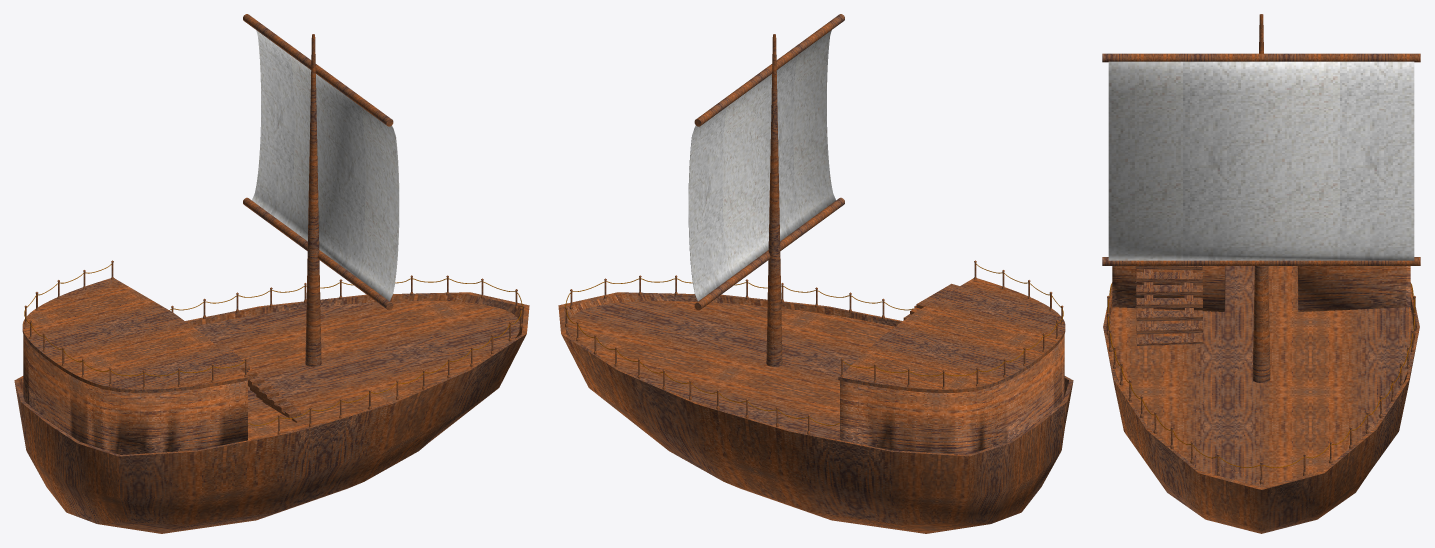
File: ship6.glb
3 views of the same model, side by side, from view 1: azimuth 30°, elevation 25°; view 2: azimuth 150°, elevation 25°; view 3: azimuth 270°, elevation 25° (orthographic). The views are drawn at different scales.
Visible parts, largest first — view 1: boat, top, Plane, toptop, cabinwall, middlepole, Cylinder, Cylinder.001, stairs, ropes; view 2: boat, top, Plane, toptop, cabinwall, middlepole, Cylinder, Cylinder.001, ropes; view 3: Plane, top, boat, cabinwall, stairs, Cylinder, middlepole, Cylinder.001, Cube.001, ropes.
Part boxes in pixels (box(x1,y1,x2,y2)): boat: box(14, 292, 529, 533); top: box(193, 300, 519, 440); Plane: box(252, 30, 399, 301); toptop: box(22, 278, 249, 392); cabinwall: box(23, 335, 247, 454); middlepole: box(305, 34, 321, 366); Cylinder: box(243, 14, 393, 126); Cylinder.001: box(243, 197, 393, 310); stairs: box(216, 343, 308, 422); ropes: box(24, 263, 522, 425); boat: box(558, 292, 1073, 533); top: box(567, 301, 894, 440); Plane: box(688, 30, 835, 301); toptop: box(838, 278, 1065, 392); cabinwall: box(840, 335, 1064, 454); middlepole: box(766, 34, 782, 366); Cylinder: box(694, 14, 844, 126); Cylinder.001: box(694, 197, 844, 310); ropes: box(565, 263, 1063, 425); Plane: box(1108, 61, 1414, 260); top: box(1109, 266, 1413, 486); boat: box(1103, 282, 1419, 533); cabinwall: box(1112, 266, 1410, 311); stairs: box(1136, 266, 1203, 345); Cylinder: box(1102, 53, 1420, 62); middlepole: box(1252, 14, 1270, 382); Cylinder.001: box(1102, 257, 1420, 265); Cube.001: box(1143, 269, 1194, 339); ropes: box(1107, 283, 1415, 467).
Size of what is drawn, in the model's own units: 13.75 by 12.33 by 7.08.
Materials: 3 (2 with a texture image).
